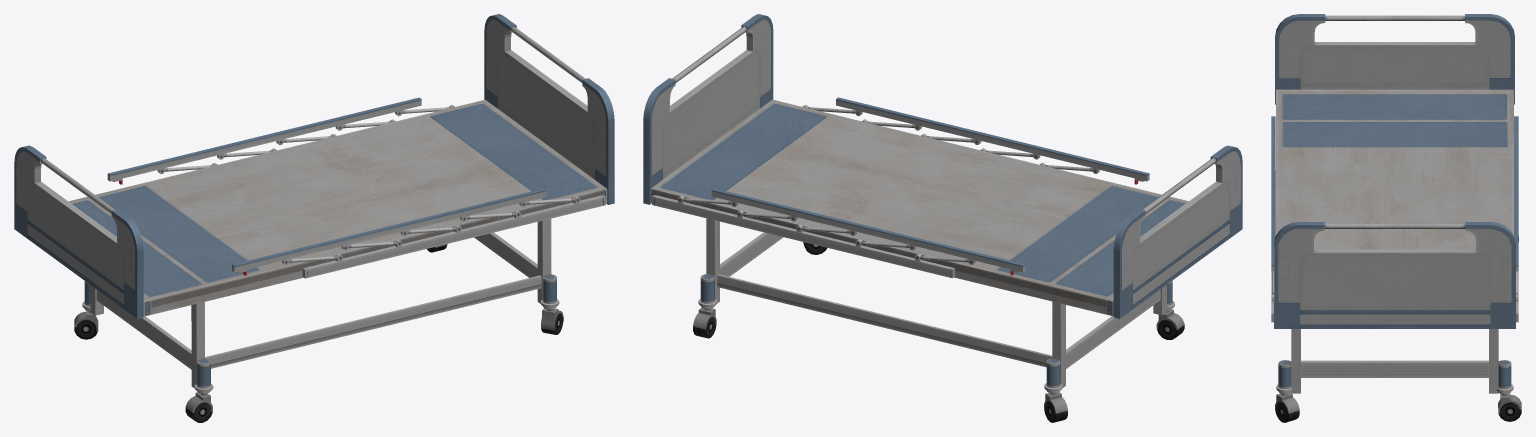
The model's file is HH_Hospital_Bed_01.fbx.
3 renders of one model, left to right at view 1: azimuth 30°, elevation 25°; view 2: azimuth 150°, elevation 25°; view 3: azimuth 270°, elevation 25°, orthographic. The views are drawn at different scales.
Parts seen in each view (by area): view 1: HH_Hospital_Bed_01_LOD0; view 2: HH_Hospital_Bed_01_LOD0; view 3: HH_Hospital_Bed_01_LOD0.
Boxes of the visible parts, bbox=[...] form: HH_Hospital_Bed_01_LOD0: bbox=[14, 14, 614, 422]; HH_Hospital_Bed_01_LOD0: bbox=[643, 14, 1242, 422]; HH_Hospital_Bed_01_LOD0: bbox=[1271, 14, 1521, 422].
Size of what is drawn, in the model's own units: 220 by 100 by 102.
